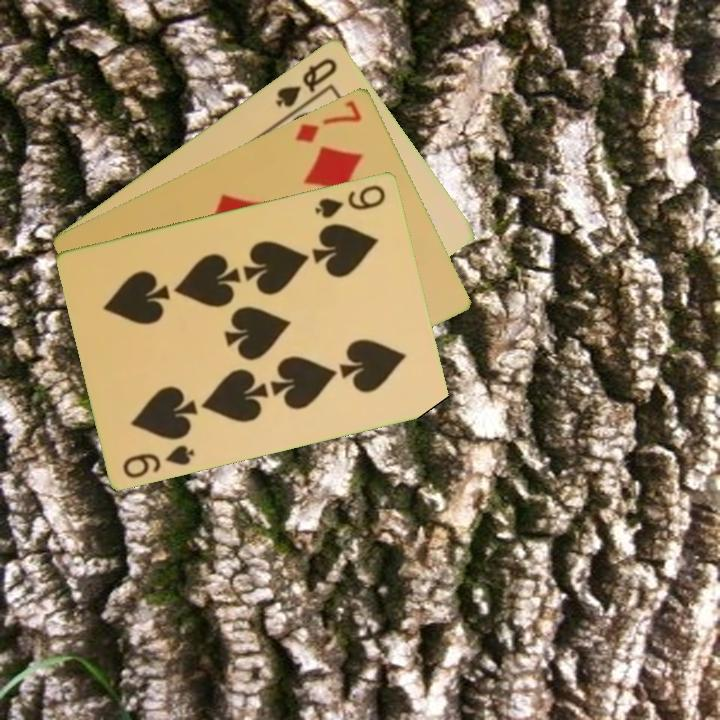7d: (291, 96, 365, 145)
9s: (119, 440, 198, 481), (311, 181, 389, 221)
Qs: (271, 53, 341, 110)
